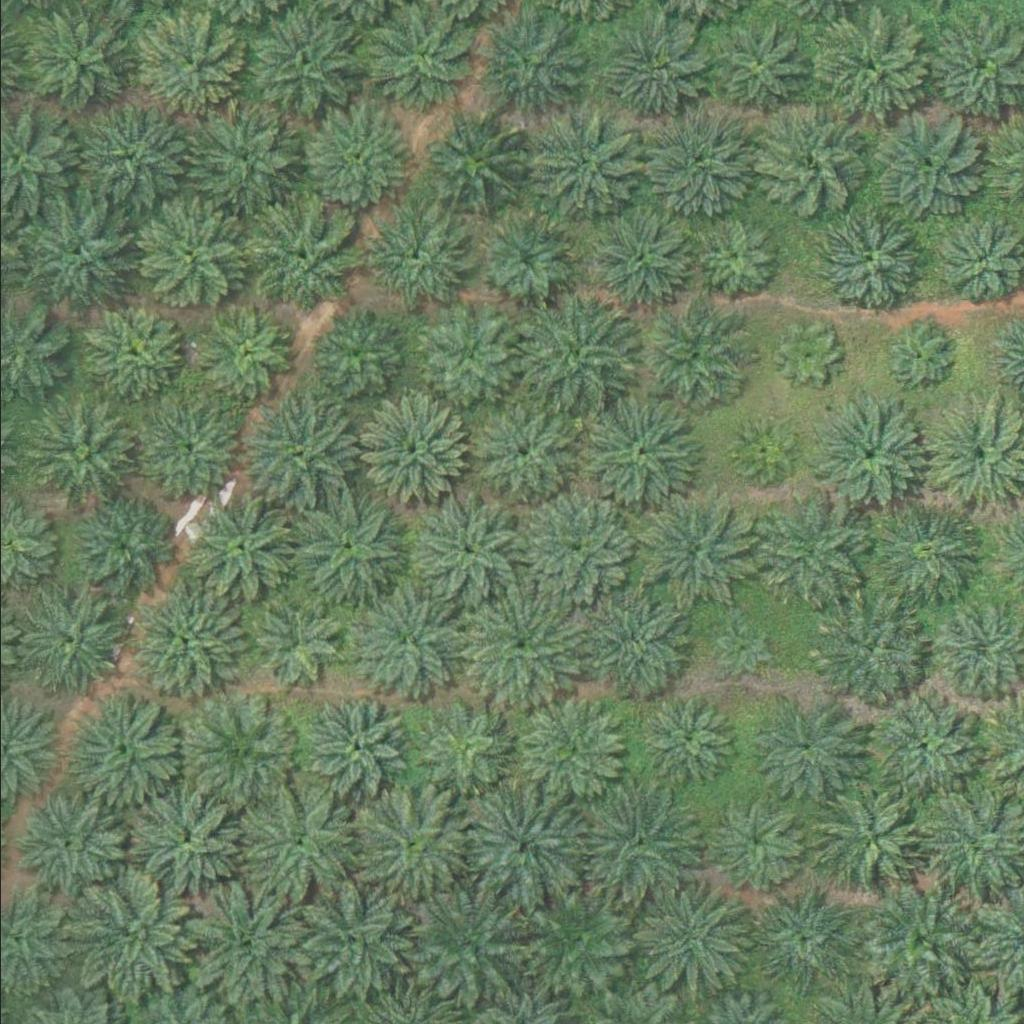Kelapa_Sawit: (523, 881, 637, 994), (587, 787, 701, 900), (743, 693, 857, 806), (415, 112, 529, 225), (297, 104, 411, 217), (244, 202, 358, 315), (133, 199, 247, 312), (413, 888, 527, 1001), (815, 782, 928, 895), (466, 787, 579, 900), (863, 691, 976, 804), (642, 490, 755, 603), (519, 494, 632, 607), (808, 399, 921, 512), (582, 396, 695, 509), (753, 104, 866, 217), (640, 108, 753, 221), (525, 109, 638, 222), (815, 9, 928, 122), (695, 11, 808, 124), (185, 100, 298, 213), (352, 396, 465, 509), (407, 489, 520, 602), (293, 492, 406, 605), (188, 493, 301, 606), (128, 587, 241, 700), (69, 697, 182, 810), (353, 788, 466, 901), (294, 883, 407, 996), (188, 885, 301, 998), (73, 879, 186, 992), (12, 584, 125, 697), (18, 197, 131, 310), (808, 593, 922, 705), (865, 496, 979, 608), (475, 7, 589, 119), (26, 394, 140, 506), (862, 885, 975, 997), (750, 881, 863, 993), (638, 883, 751, 995), (511, 694, 624, 806), (577, 588, 690, 700), (464, 590, 577, 702), (753, 499, 866, 611), (463, 396, 576, 508), (636, 300, 749, 412), (514, 299, 627, 411), (809, 208, 922, 320), (578, 202, 691, 314), (868, 108, 981, 220), (593, 12, 706, 124), (246, 9, 359, 121), (131, 10, 244, 122), (78, 107, 191, 219), (239, 394, 352, 506), (129, 392, 242, 504), (346, 584, 459, 696), (183, 696, 296, 808), (241, 790, 354, 902), (135, 788, 248, 900), (11, 792, 124, 904), (15, 5, 128, 117), (473, 210, 574, 310), (418, 310, 519, 410), (308, 311, 409, 411), (73, 495, 174, 595), (240, 595, 341, 695), (418, 699, 519, 799), (307, 695, 408, 795), (707, 792, 807, 892), (638, 690, 738, 790), (369, 213, 469, 313), (194, 309, 294, 409), (82, 305, 182, 405), (933, 217, 1021, 305), (693, 214, 781, 302), (731, 420, 794, 483), (885, 328, 948, 391), (774, 323, 837, 386), (711, 617, 774, 679)
